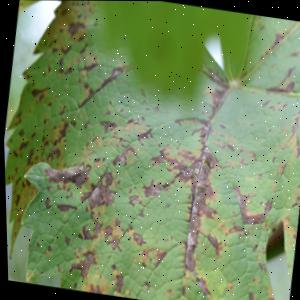Folha: (0, 0, 300, 300)
Fungo: (174, 144, 220, 271), (108, 213, 192, 280), (80, 56, 133, 115), (27, 115, 85, 166), (96, 128, 146, 183), (68, 239, 120, 288), (205, 53, 244, 113), (206, 204, 243, 263), (227, 184, 273, 229), (179, 103, 215, 158), (32, 63, 68, 114), (41, 155, 91, 190), (83, 165, 118, 213), (147, 131, 180, 175), (121, 174, 156, 215), (55, 0, 83, 48), (268, 63, 296, 109), (75, 210, 107, 241), (192, 273, 223, 300), (236, 266, 260, 300), (220, 132, 250, 159), (281, 136, 300, 178), (87, 1, 121, 23), (251, 257, 275, 283), (140, 176, 164, 200), (253, 91, 272, 120), (66, 19, 87, 42), (270, 29, 287, 47), (55, 201, 76, 214), (261, 287, 281, 300), (287, 51, 300, 69), (286, 117, 296, 135), (42, 197, 50, 210), (62, 235, 69, 245), (246, 291, 253, 300)
